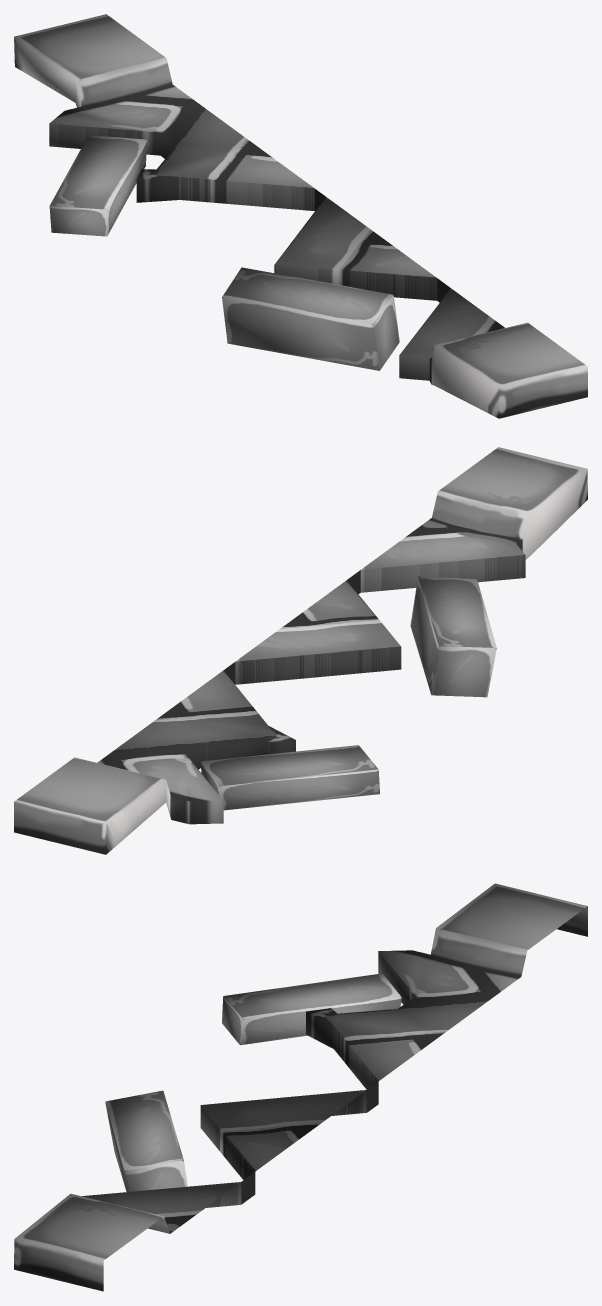
Rendered from Road Broken Edge Start Cap.fbx.
3 renders of one model, top to bottom at view 1: azimuth 30°, elevation 25°; view 2: azimuth 150°, elevation 25°; view 3: azimuth 330°, elevation 25°, orthographic.
Parts seen in each view (by area): view 1: Road; view 2: Road; view 3: Road.
Part boxes in pixels (x1,y1,x2,y2): Road: (14,14,587,418); Road: (14,447,587,854); Road: (14,883,587,1291).
Size of the model in its own units: 0.8801 by 0.2836 by 3.5.
